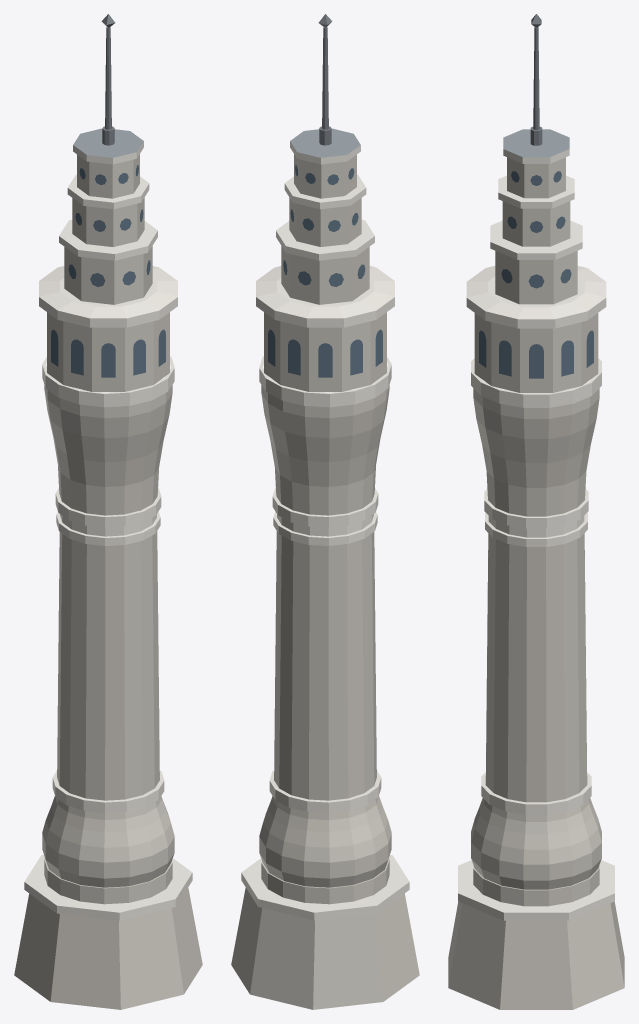
Rendered from istanbul-beyazit-tower.glb.
3 renders of one model, left to right at view 1: azimuth 30°, elevation 25°; view 2: azimuth 150°, elevation 25°; view 3: azimuth 270°, elevation 25°, orthographic.
Visible parts, largest first — view 1: Beyazıt Tower; view 2: Beyazıt Tower; view 3: Beyazıt Tower.
Part boxes in pixels (x1,y1,x2,y2): Beyazıt Tower: (14, 14, 202, 1009); Beyazıt Tower: (231, 14, 419, 1009); Beyazıt Tower: (448, 14, 624, 1009).
Size of the model in its own units: 12 by 72 by 12.
